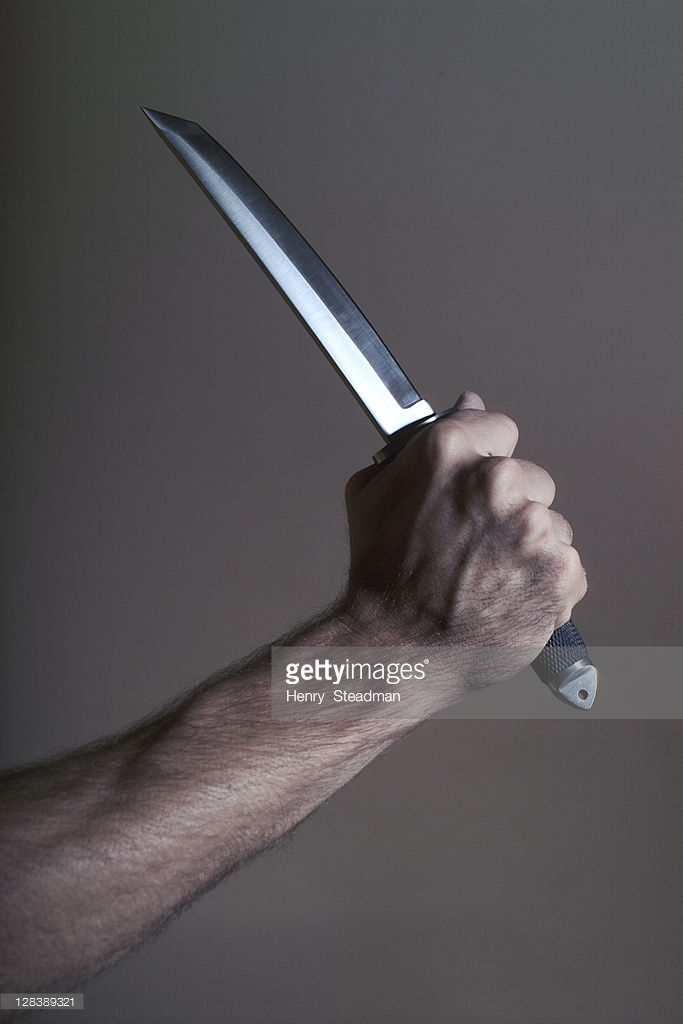knife: (127, 99, 603, 583)
